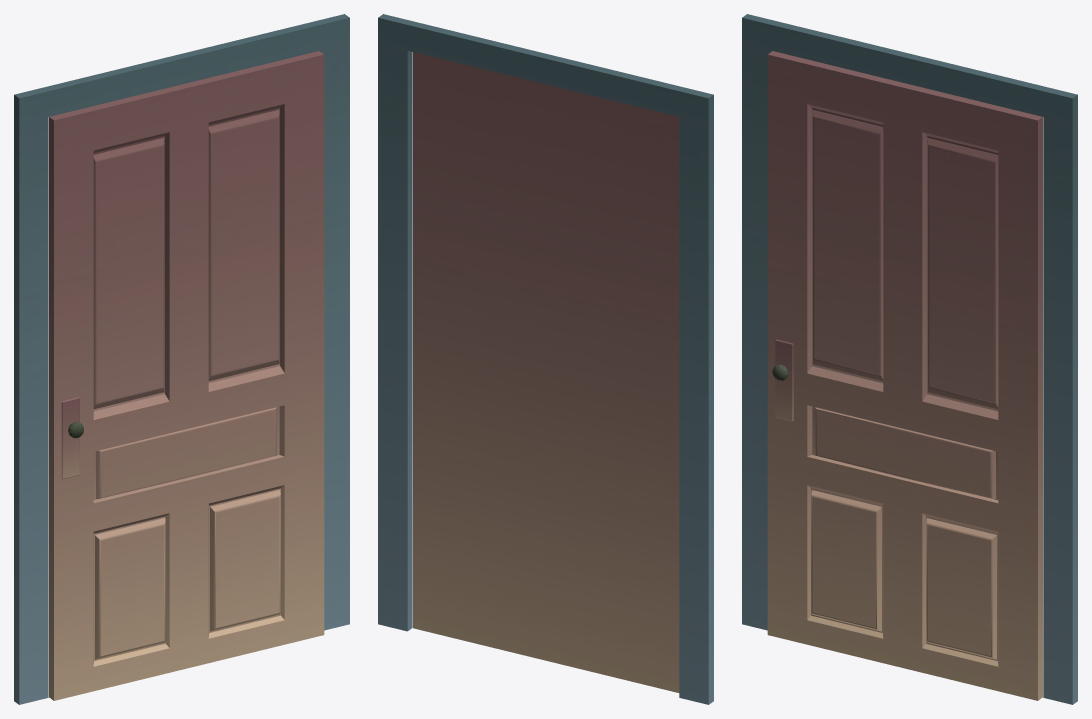
File: SM_Door.fbx
3 views of the same model, side by side, from view 1: azimuth 30°, elevation 25°; view 2: azimuth 150°, elevation 25°; view 3: azimuth 330°, elevation 25° (orthographic).
Parts seen in each view (by area): view 1: Door, doorframe; view 2: Door, doorframe; view 3: Door, doorframe.
Part boxes in pixels (box(x1,y1,x2,y2)): Door: box(49, 51, 324, 700); doorframe: box(14, 14, 349, 704); Door: box(413, 52, 679, 692); doorframe: box(378, 14, 713, 704); Door: box(767, 51, 1042, 700); doorframe: box(742, 14, 1077, 704).
Bounding box in the file's own units: 112 × 197 × 10.41.
1 material, 1 textured.
